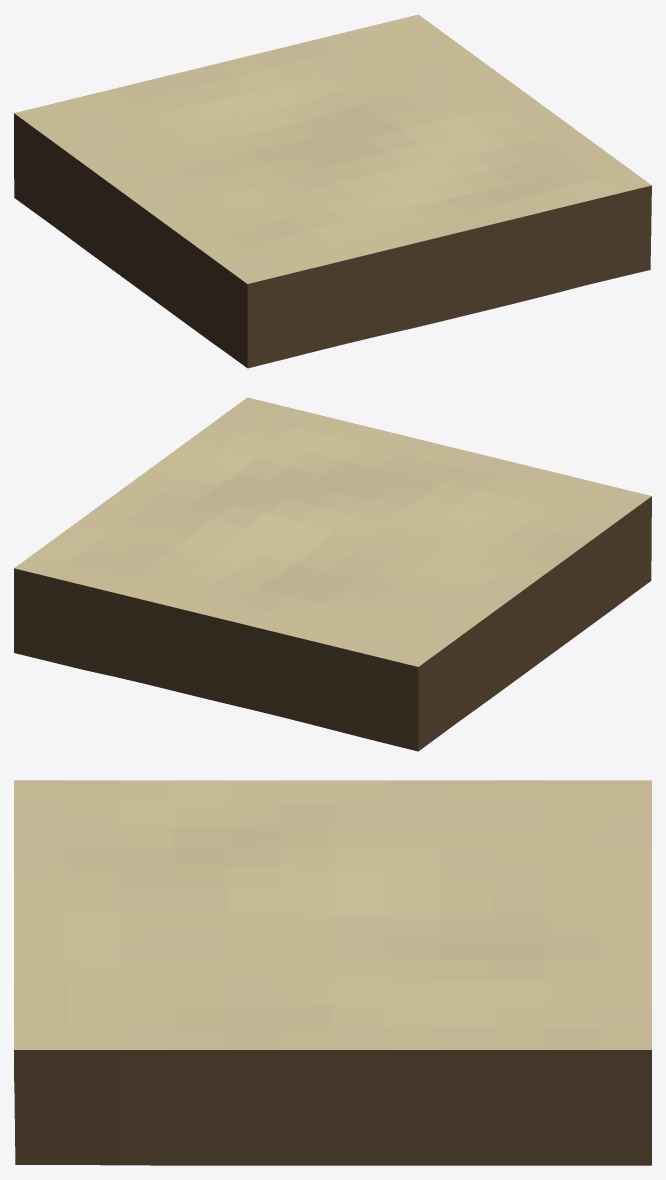
Rendered from sand_03.glb.
The picture shows the model from 3 angles, top to bottom: view 1: azimuth 30°, elevation 25°; view 2: azimuth 150°, elevation 25°; view 3: azimuth 270°, elevation 25°; orthographic projection. The views are drawn at different scales.
Parts seen in each view (by area): view 1: Grid; view 2: Grid; view 3: Grid.
Boxes of the visible parts, box(x1,y1,x2,y2) form: Grid: box(14, 14, 651, 368); Grid: box(14, 397, 651, 751); Grid: box(14, 780, 651, 1165).
Size of the model in its own units: 1 by 0.209 by 1.
